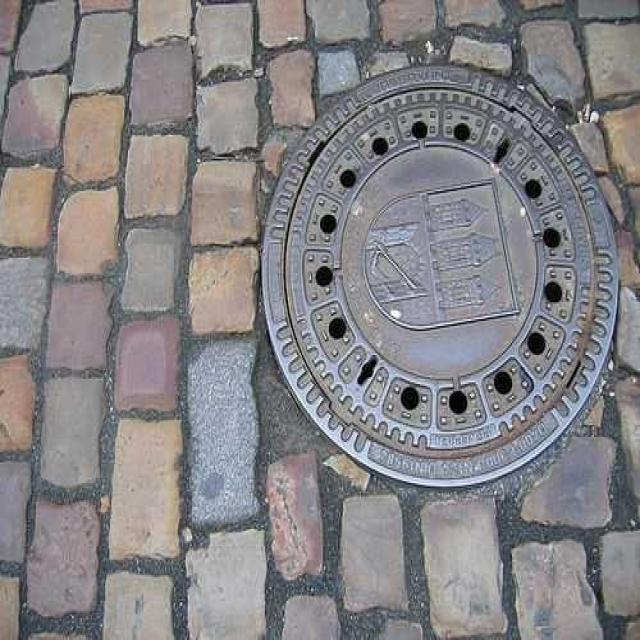manhole: (259, 65, 621, 493)
